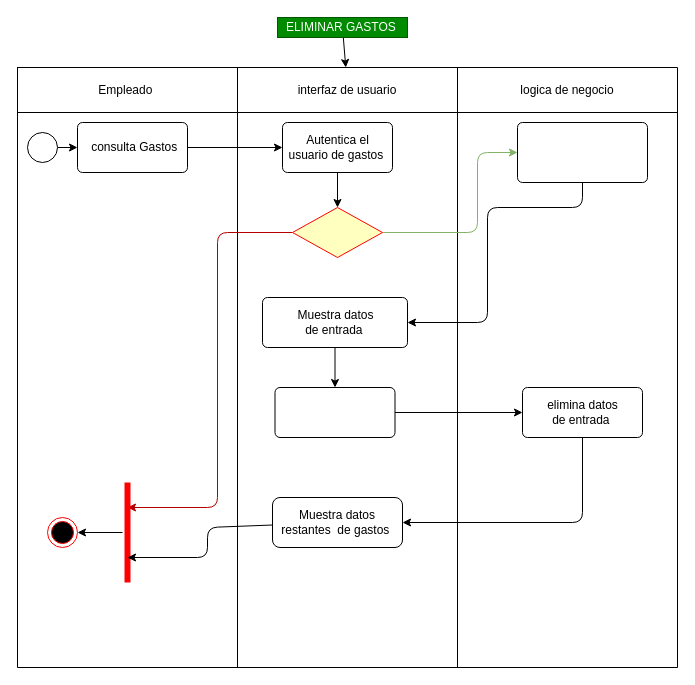
The diagram is 695 pixels wide and 685 high, and some of its shapes have lost their labels. The centre of each missing label's shape, as x and y in pixels:
"Autenticado" belongs at [337,232].
"Consulta datos de entrada" belongs at [582,152].
"selecciona datos de entrada y confirma" belongs at [334,412].
